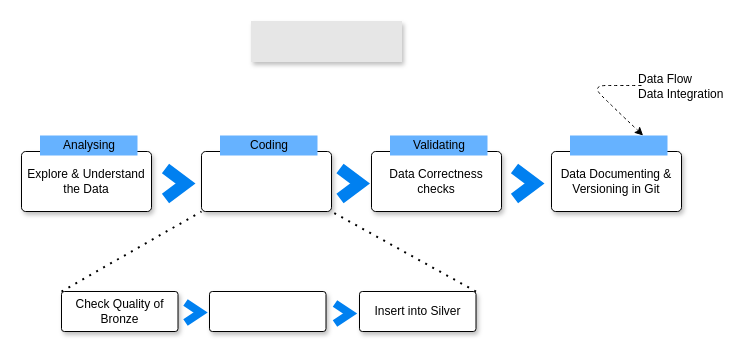
This 754x356 diagram has some shape labels left out. Each missing label, with the centre of its shape:
"Data Cleansing" belongs at point 267,182.
"Docs & Version" belongs at point 618,145.
"Silver Layer" belongs at point 327,42.
"Write Data Transformations" belongs at point 268,312.
